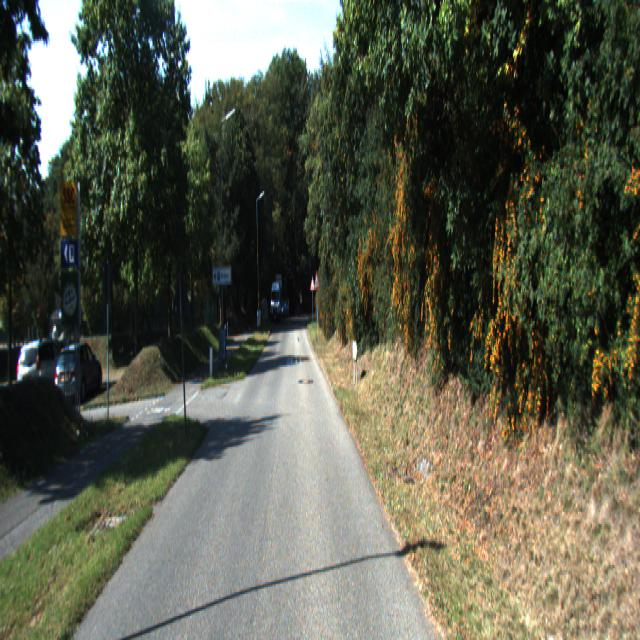Car: (17, 338, 72, 410), (54, 341, 104, 407)
